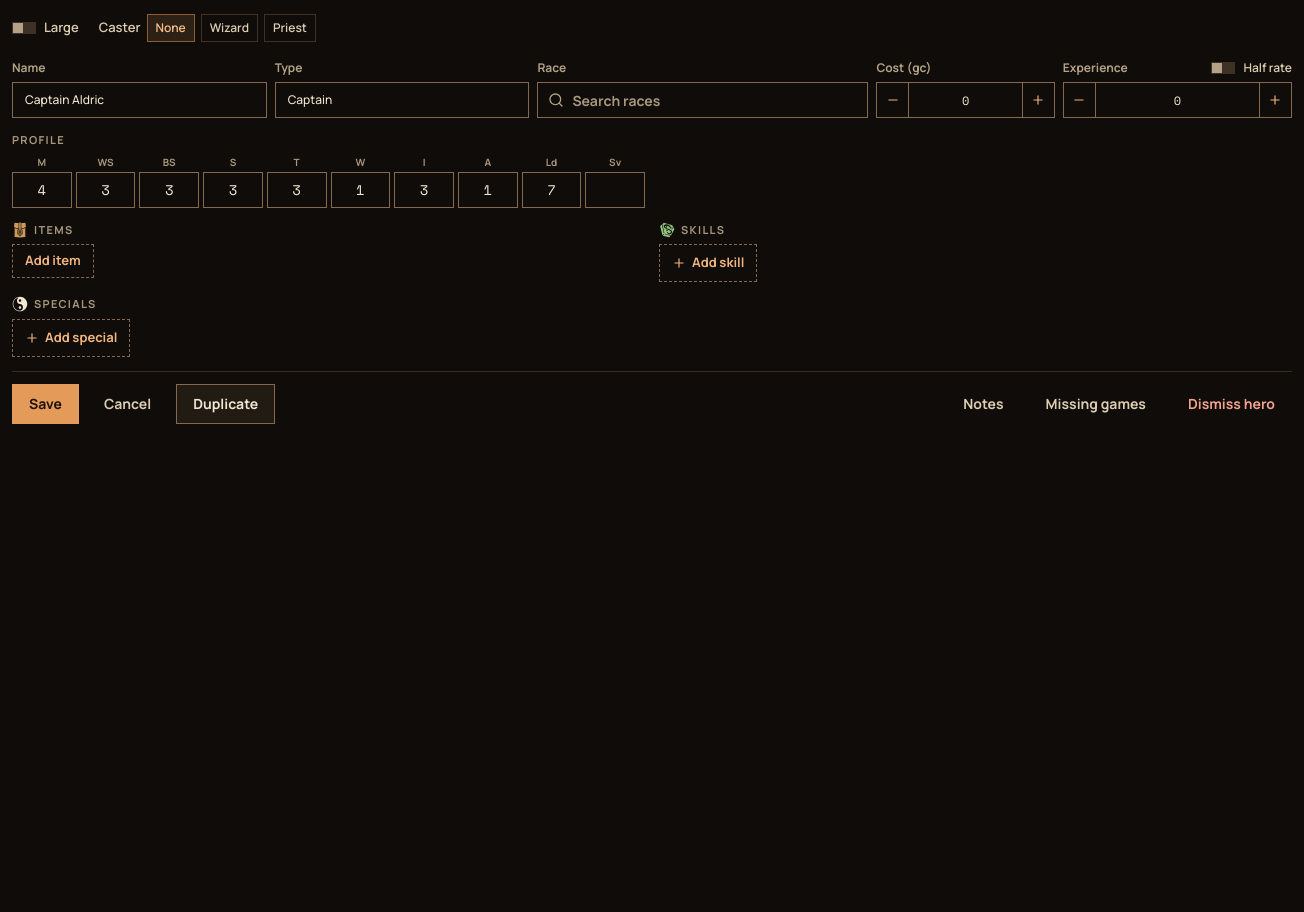
Test: The Edit form's notes › take no room until the Notes button opens them
Click the button "Notes".
click(983, 404)  # box [946,384,1021,424]
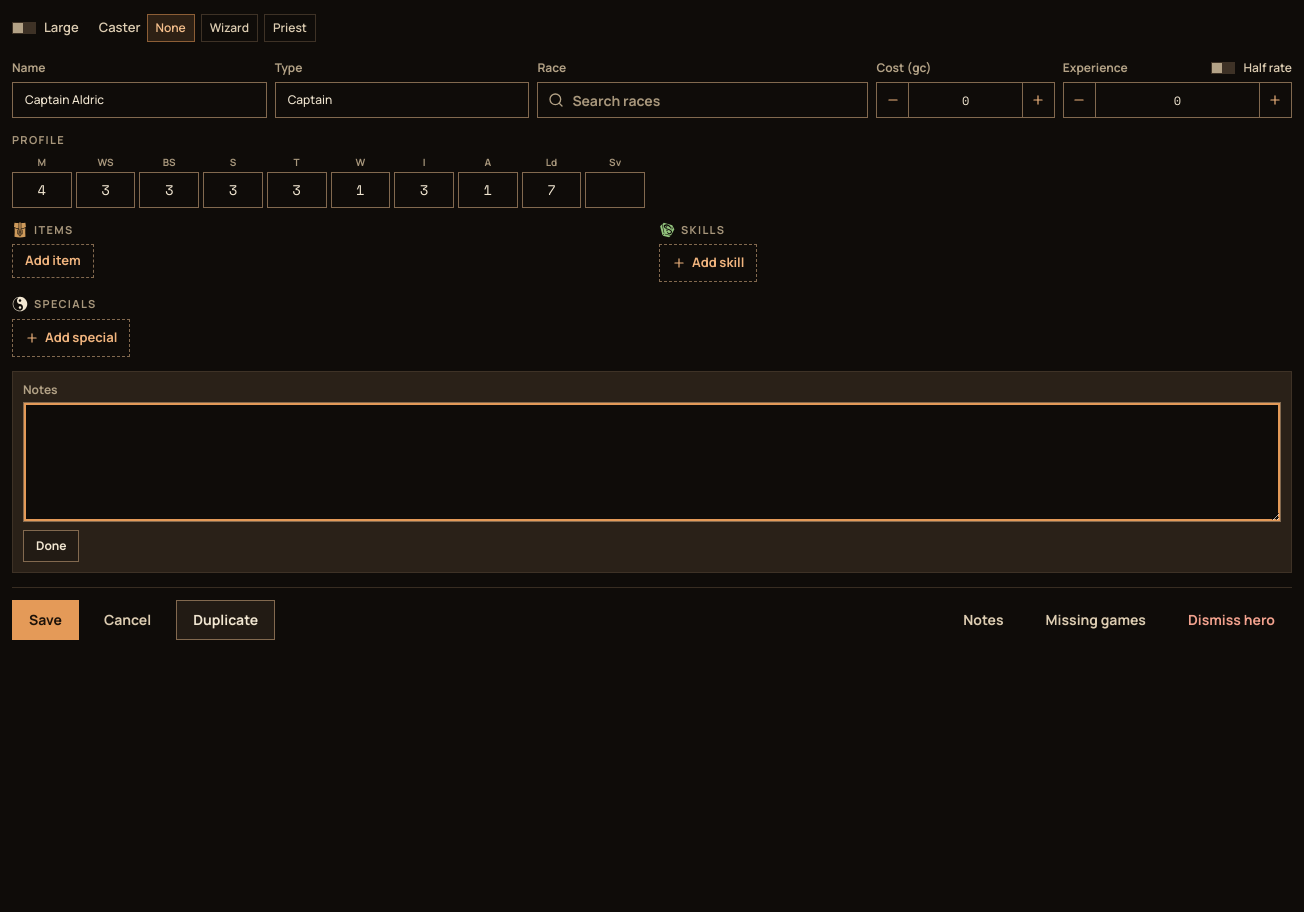
Expected: the text box labelled "Notes" is empty, [23,402,1281,522]
Expected: the button "Notes" is expanded, [946,600,1021,640]
